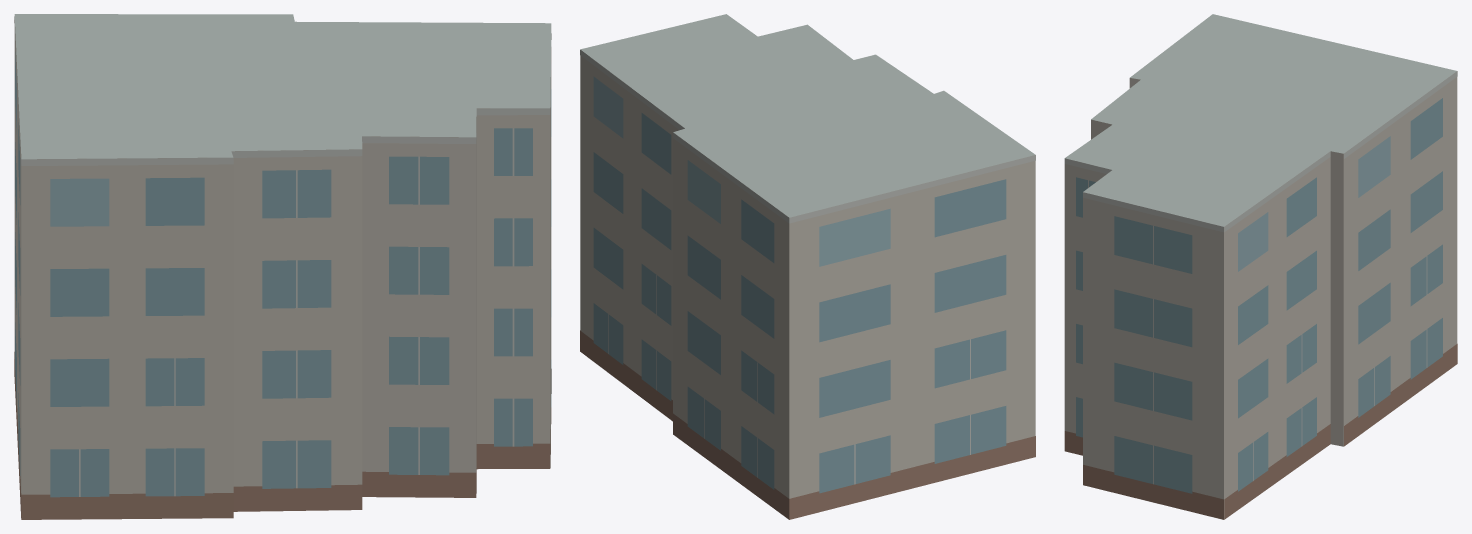
File: survey-upis-32656728.glb
The picture shows the model from 3 angles, left to right: view 1: azimuth 30°, elevation 25°; view 2: azimuth 150°, elevation 25°; view 3: azimuth 270°, elevation 25°; orthographic projection. The views are drawn at different scales.
Visible parts, largest first — view 1: survey-upis-32656728.tmp; view 2: survey-upis-32656728.tmp; view 3: survey-upis-32656728.tmp.
Boxes of the visible parts, box(x1,y1,x2,y2) form: survey-upis-32656728.tmp: box(14, 14, 551, 519); survey-upis-32656728.tmp: box(580, 14, 1035, 519); survey-upis-32656728.tmp: box(1064, 14, 1457, 519).
Size of the model in its own units: 19.96 by 12.8 by 15.56.
